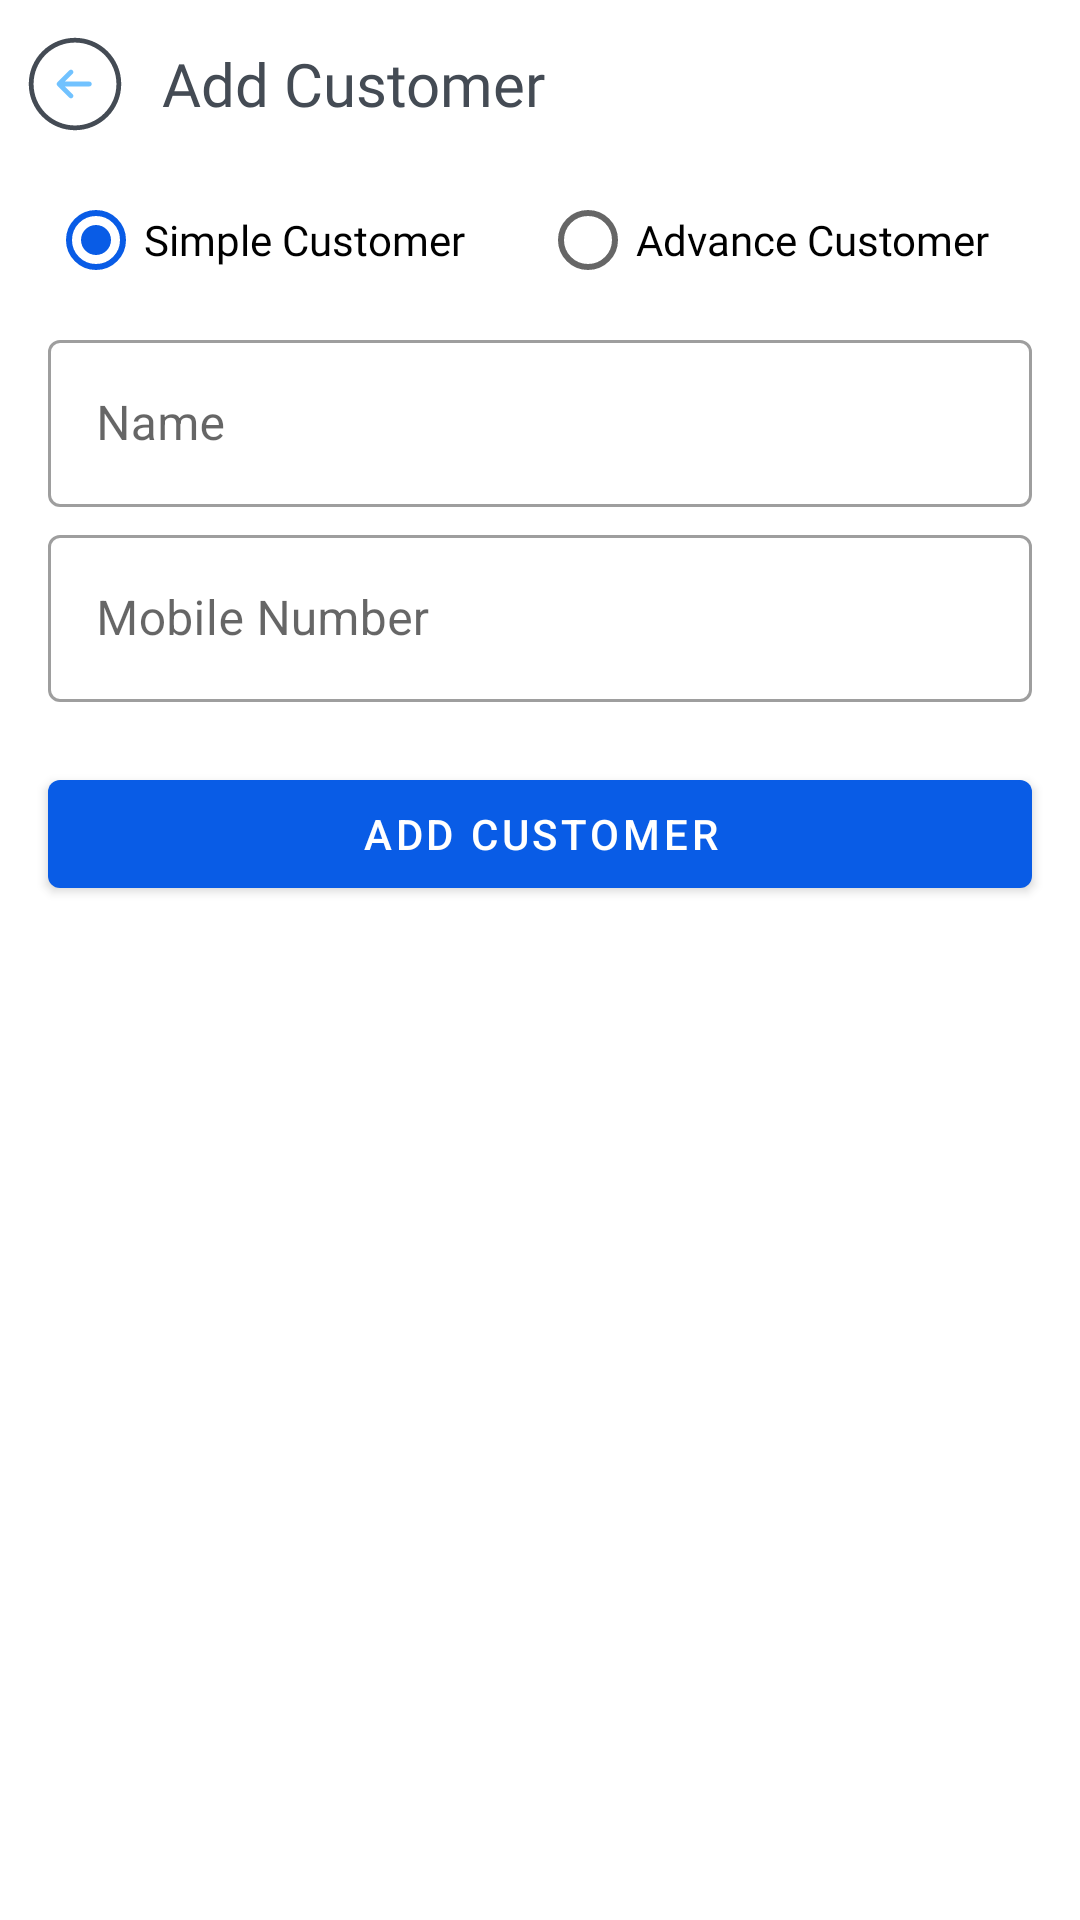

Icon bounding boxes for this 1080*1920 phone screenshot, format (x1, y1, x2, y2):
go back: (28, 37, 122, 131)
